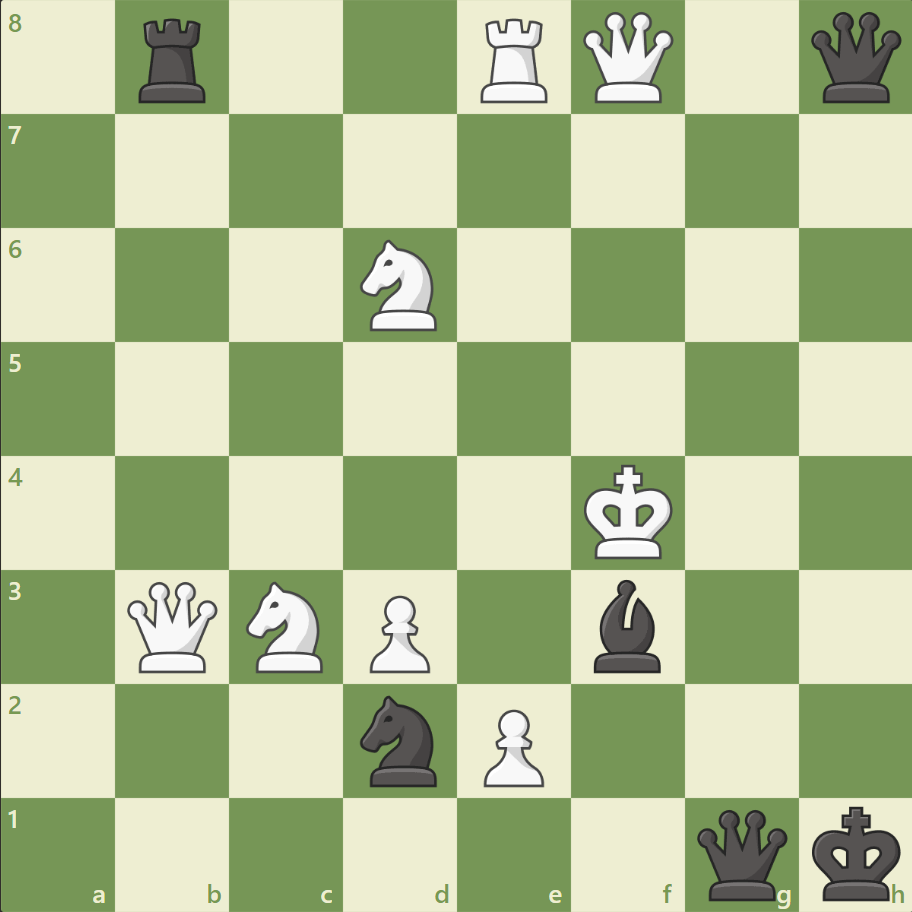K: (579, 458, 679, 566)
N: (351, 234, 449, 337), (238, 575, 335, 677)
P: (474, 700, 549, 791), (361, 586, 435, 677)
Q: (124, 576, 223, 676), (578, 9, 677, 108)
R: (473, 12, 556, 109)
b: (585, 574, 669, 676)
k: (806, 798, 906, 906)
n: (351, 688, 449, 791)
q: (805, 9, 904, 108), (691, 804, 790, 903)
r: (133, 12, 215, 109)
